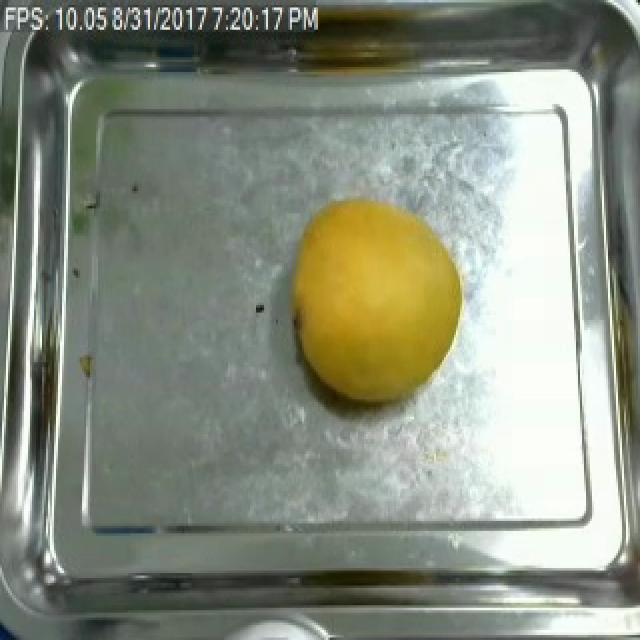fruit: (278, 188, 474, 416)
